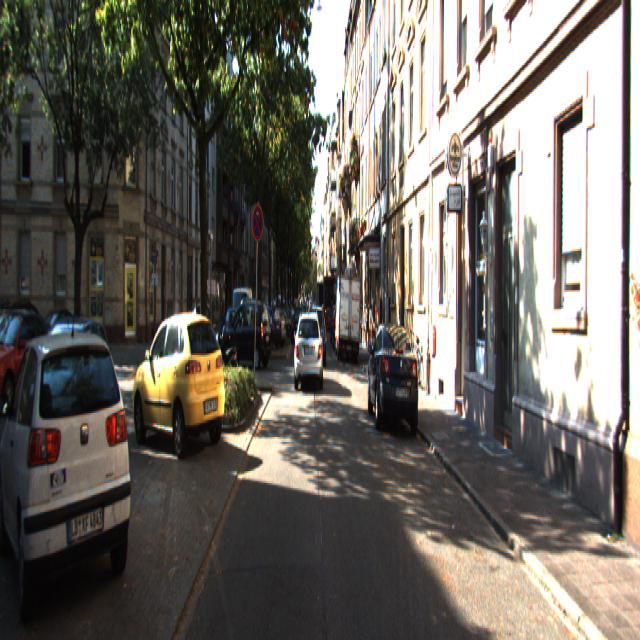Car: (0, 327, 140, 632), (132, 306, 228, 462), (9, 318, 115, 459), (367, 313, 423, 433), (0, 305, 56, 403), (220, 297, 272, 369), (294, 311, 324, 389), (335, 275, 362, 360), (211, 317, 240, 395), (306, 306, 326, 365)
